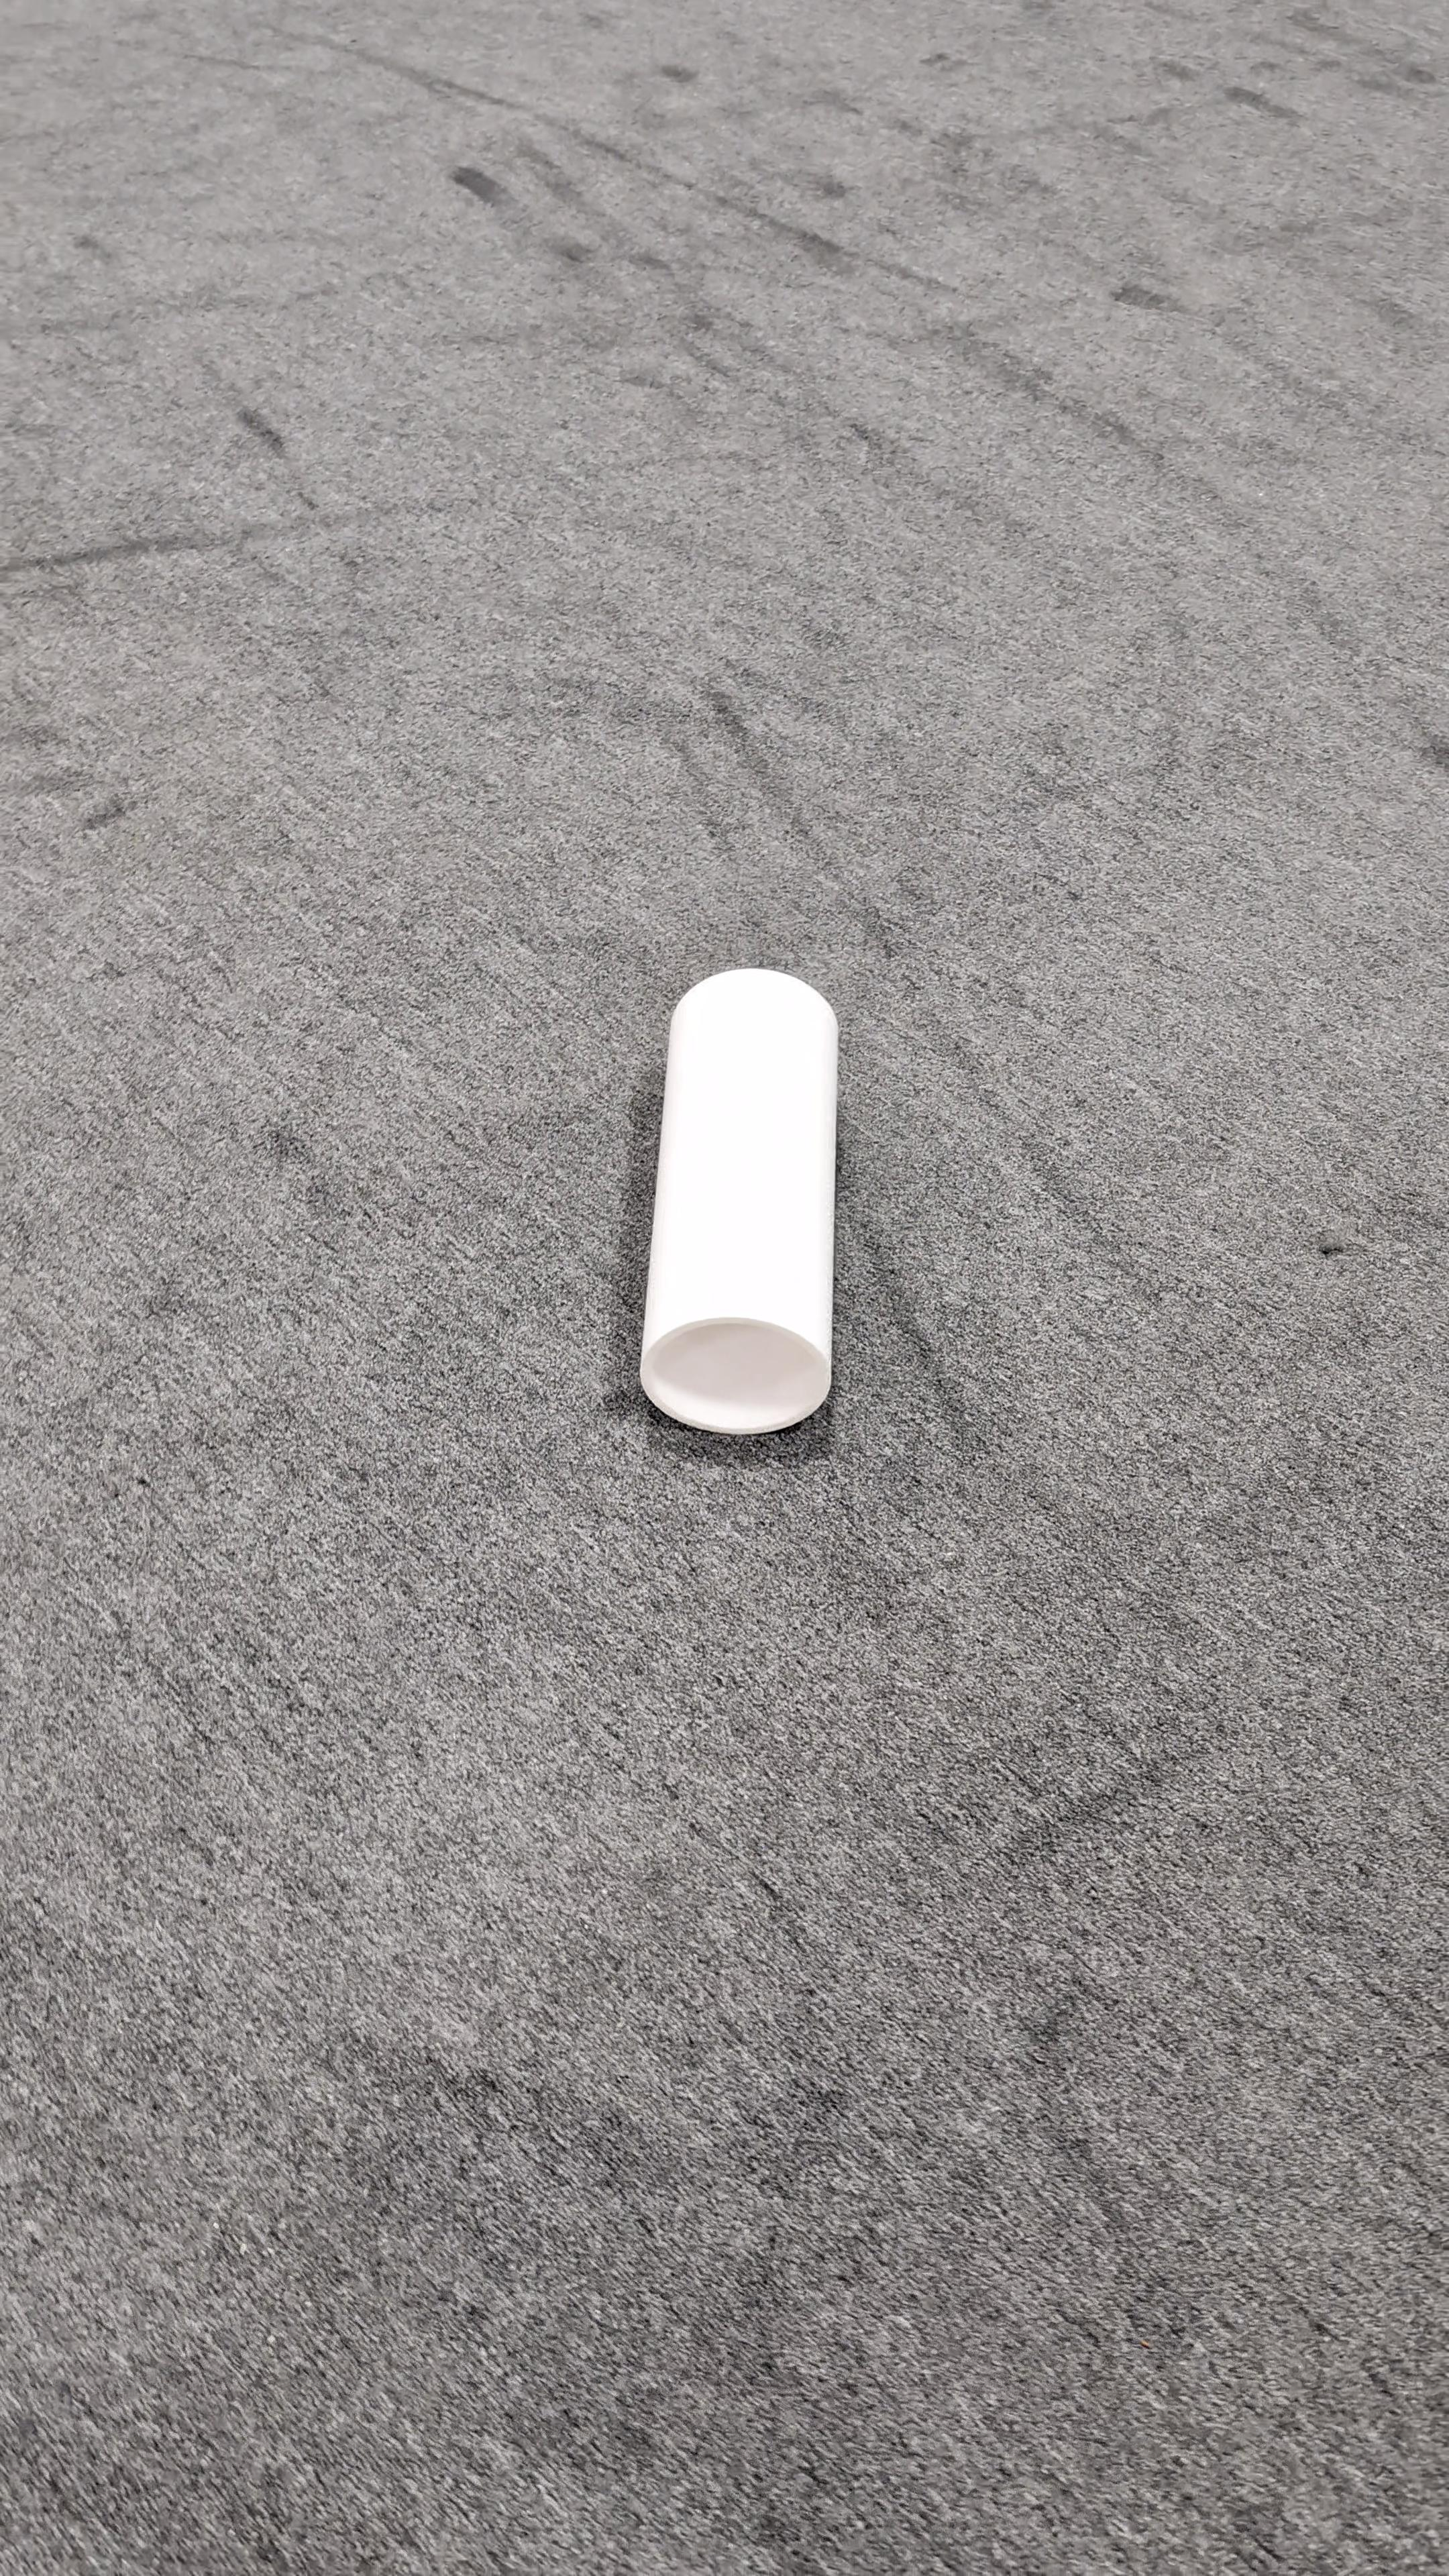coral: (644, 970, 840, 1435)
